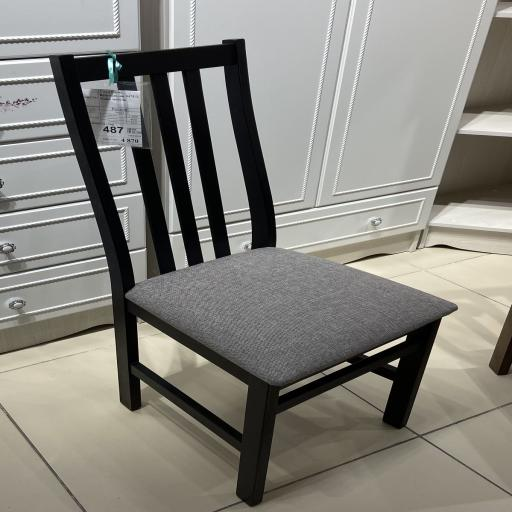bottle: (50, 40, 456, 506)
bus: (0, 0, 496, 352)
